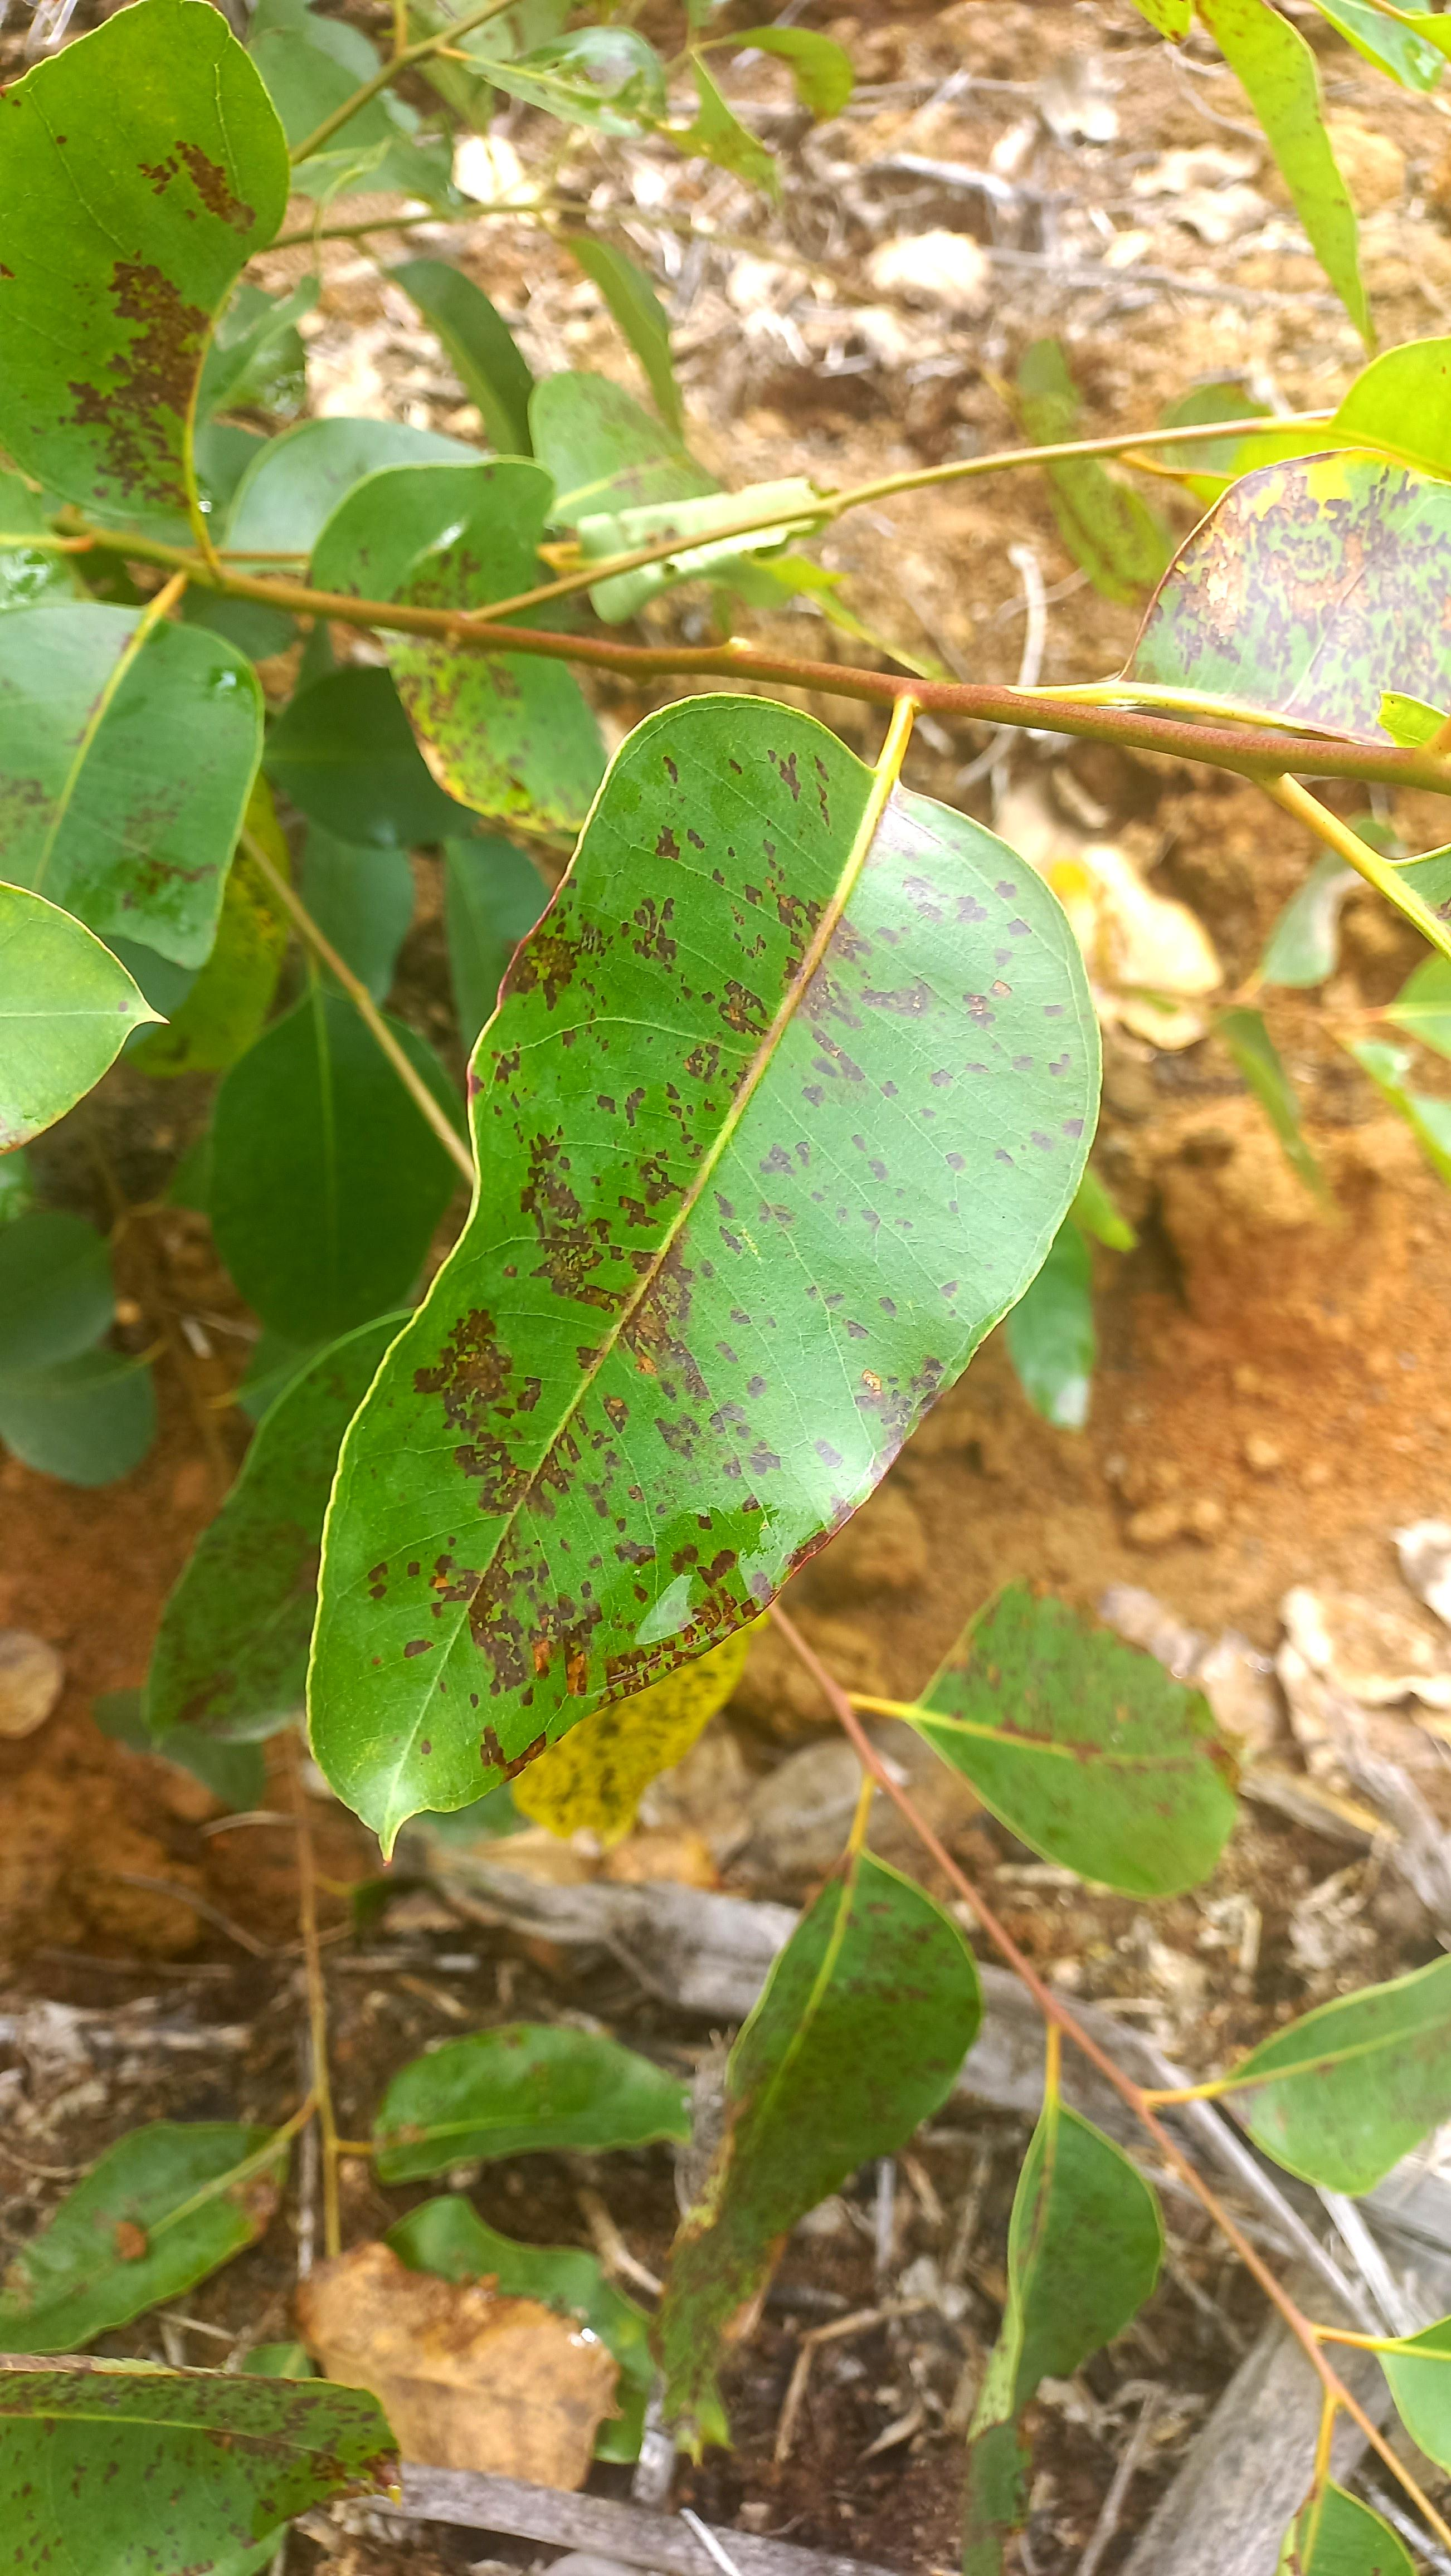Xanthomonas: (274, 741, 1122, 1812), (623, 1928, 977, 2459), (0, 96, 297, 545), (152, 1322, 389, 1762), (1138, 425, 1451, 755), (0, 2351, 391, 2576), (386, 536, 626, 835), (1003, 2118, 1173, 2410)
